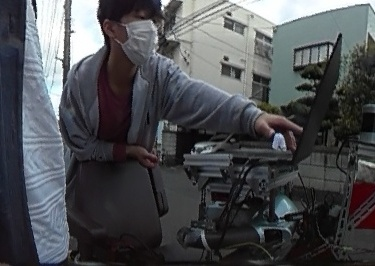person: (61, 0, 230, 160)
